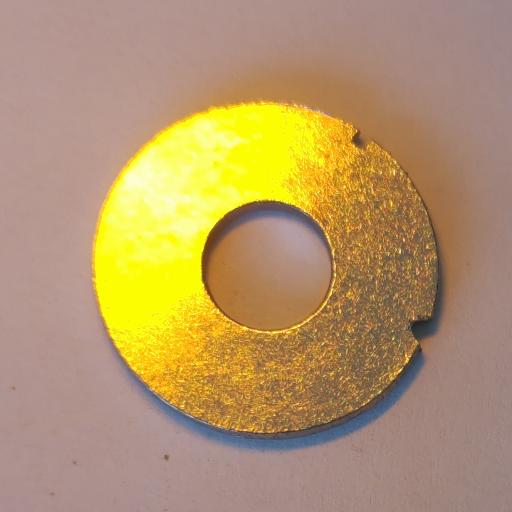burr: (406, 315, 435, 347), (351, 127, 372, 152)
